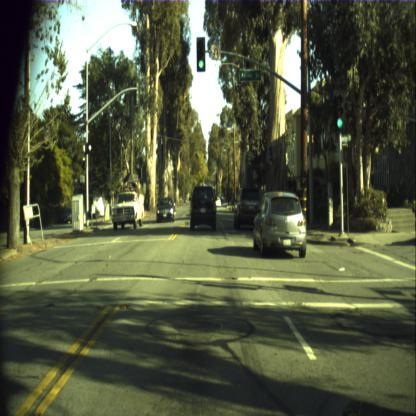Green: (334, 89, 346, 132), (196, 35, 206, 71)
